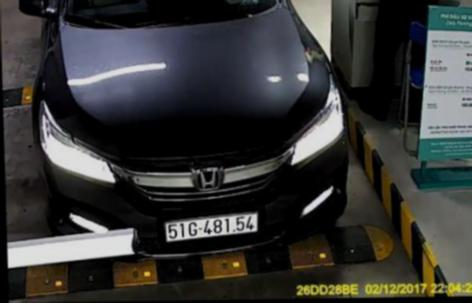License_Plate: (162, 211, 261, 241)
